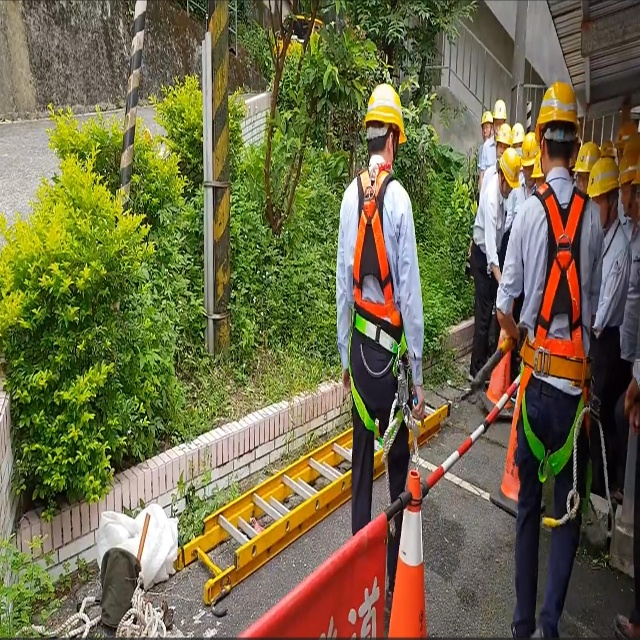Arnes_seguridad: (516, 182, 595, 513), (346, 168, 413, 464)
